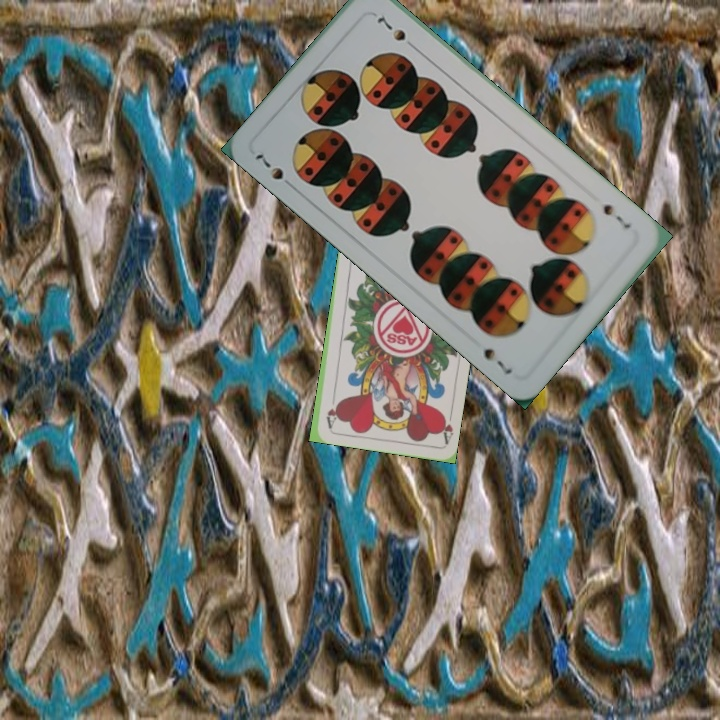HA: (435, 406, 456, 446)
S7: (251, 148, 298, 192), (599, 200, 634, 232)
